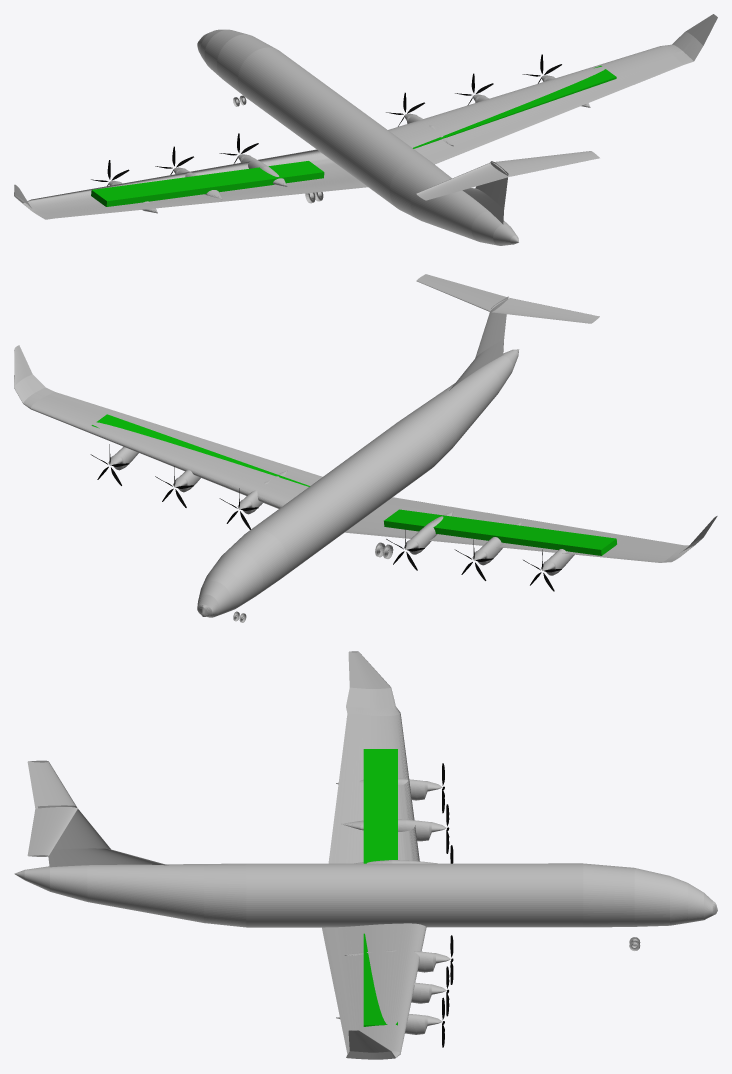
Rendered from Elysian_E9X_Model.gltf.
3 views of the same model, one above another, from view 1: azimuth 30°, elevation 25°; view 2: azimuth 150°, elevation 25°; view 3: azimuth 270°, elevation 25° (orthographic). The views are drawn at different scales.
Parts seen in each view (by area): view 1: Renderer Node; view 2: Renderer Node; view 3: Renderer Node.
Boxes of the visible parts, bbox=[...] form: Renderer Node: bbox=[14, 14, 717, 245]; Renderer Node: bbox=[14, 274, 717, 622]; Renderer Node: bbox=[14, 651, 717, 1059].
Size of the model in its own units: 42 by 7.81 by 33.
